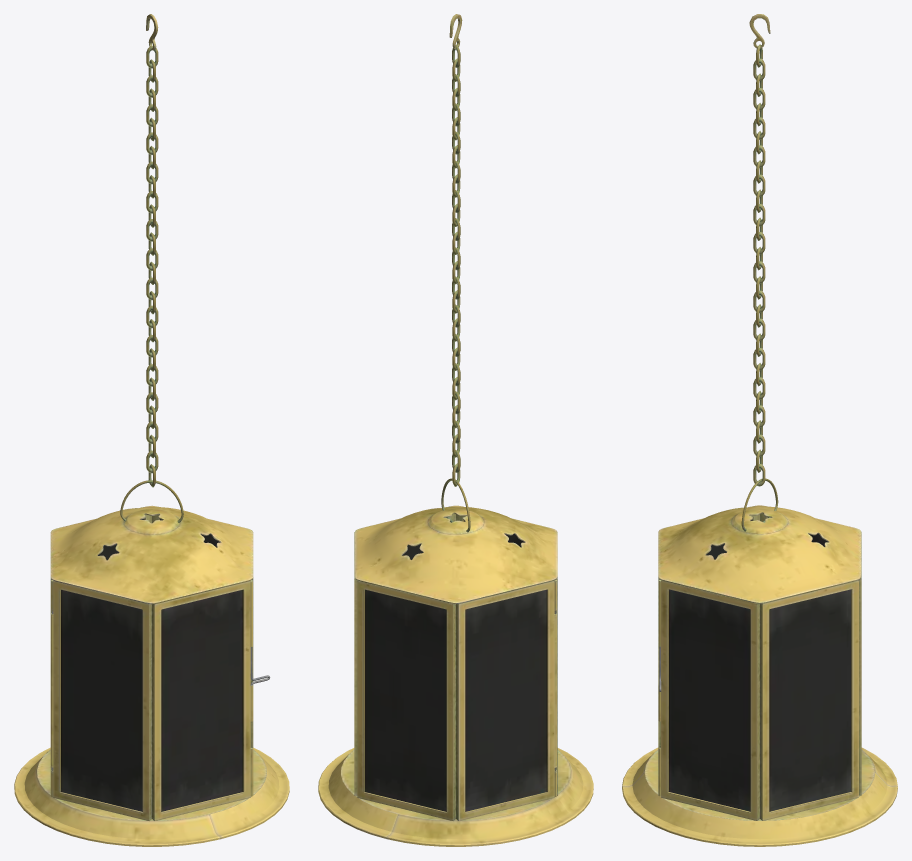
File: brass_diya_lantern.glb
3 views of the same model, side by side, from view 1: azimuth 30°, elevation 25°; view 2: azimuth 150°, elevation 25°; view 3: azimuth 270°, elevation 25° (orthographic).
Visible parts, largest first — view 1: brass_diya_lantern, brass_diya_lantern_chain; view 2: brass_diya_lantern, brass_diya_lantern_chain; view 3: brass_diya_lantern, brass_diya_lantern_chain.
Part boxes in pixels (bbox=[...]): brass_diya_lantern: bbox=[14, 505, 289, 846]; brass_diya_lantern_chain: bbox=[146, 14, 158, 487]; brass_diya_lantern: bbox=[318, 505, 593, 846]; brass_diya_lantern_chain: bbox=[449, 14, 462, 486]; brass_diya_lantern: bbox=[622, 505, 897, 846]; brass_diya_lantern_chain: bbox=[749, 14, 770, 486].
Bounding box in the file's own units: 0.123 × 0.3808 × 0.123.
Materials: 3 (3 with a texture image).
